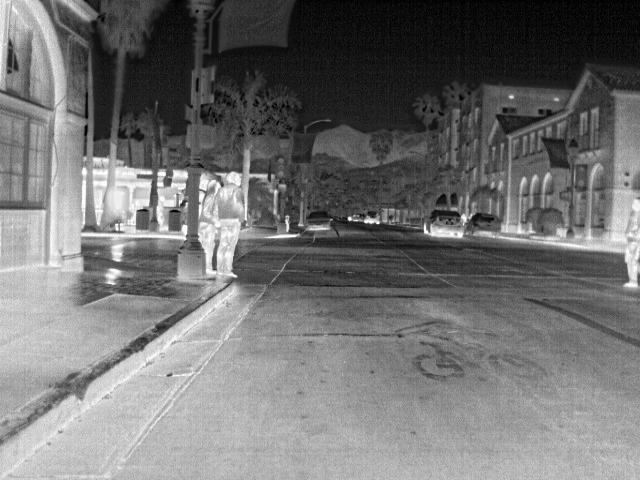car: (420, 209, 465, 238), (466, 213, 503, 238), (302, 207, 333, 233), (364, 209, 383, 224)
person: (213, 170, 247, 278), (198, 178, 224, 276), (620, 196, 640, 289)
